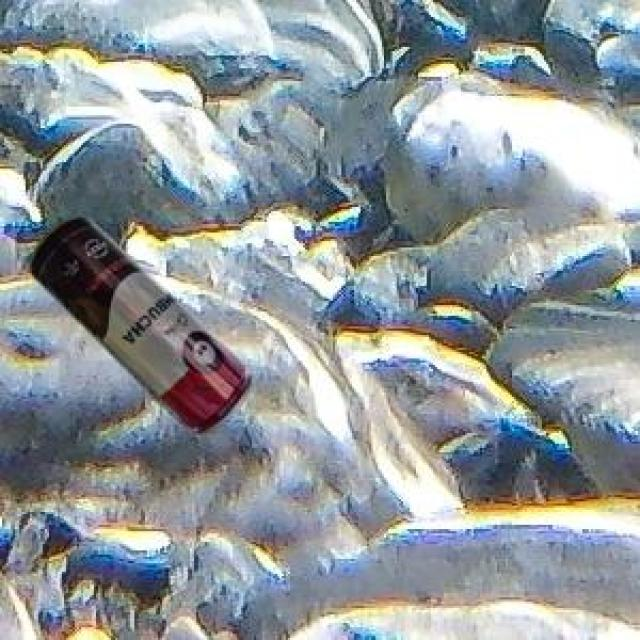logam: (29, 214, 249, 432)
